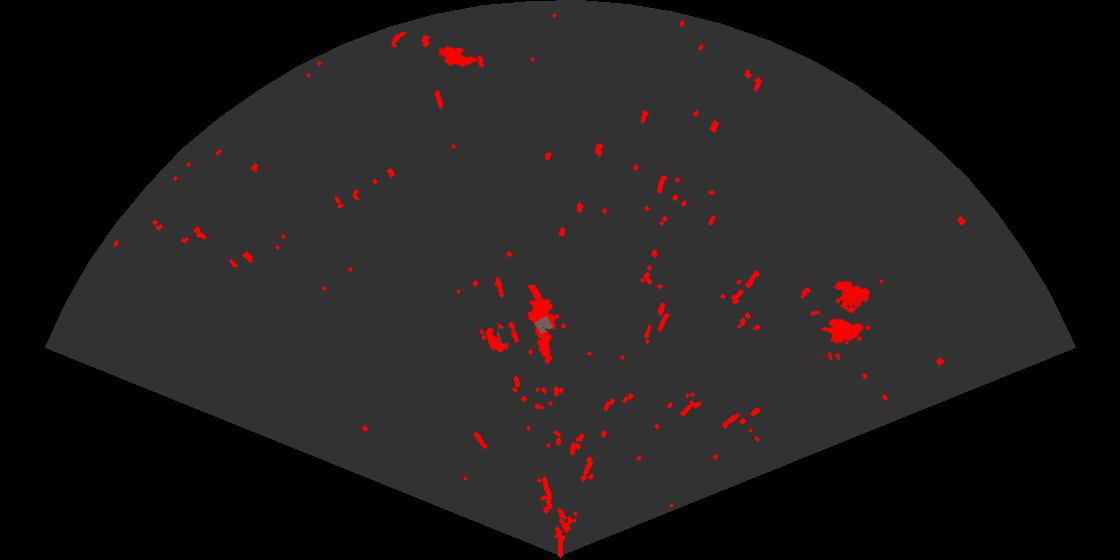AUV: (437, 45, 480, 69)
ball: (484, 320, 521, 354)
cage: (811, 279, 873, 360)
frogman: (526, 285, 561, 366)
